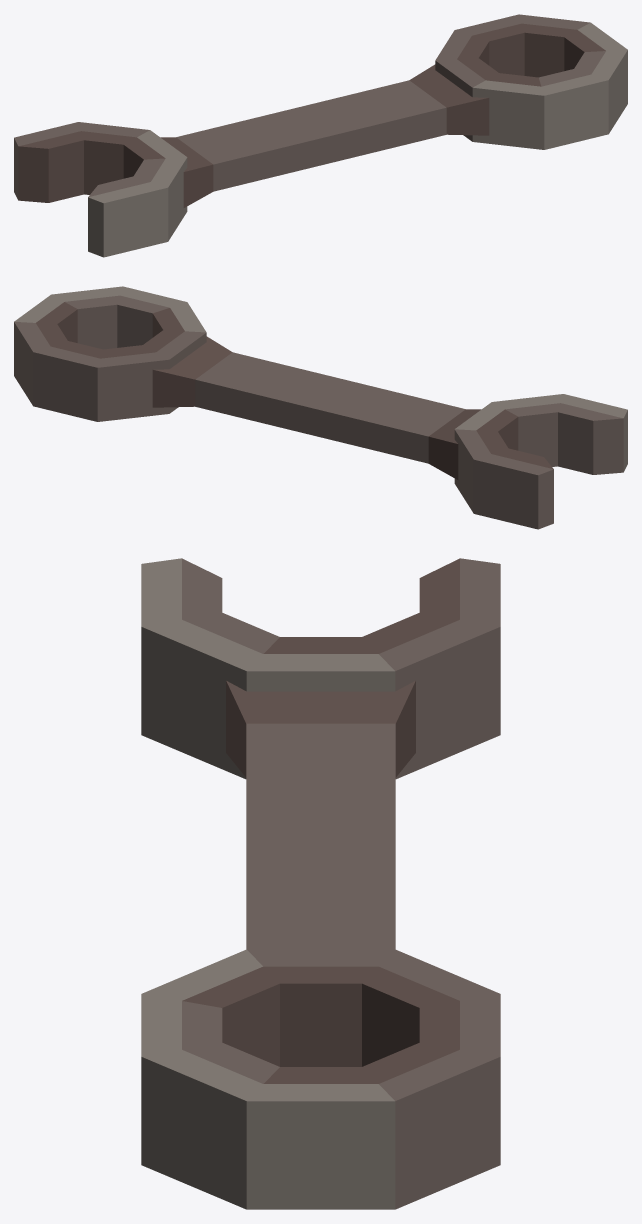
Rendered from wrench.fbx.
The picture shows the model from 3 angles, top to bottom: view 1: azimuth 30°, elevation 25°; view 2: azimuth 150°, elevation 25°; view 3: azimuth 270°, elevation 25°; orthographic projection. The views are drawn at different scales.
Visible parts, largest first — view 1: o, handle, u; view 2: o, handle, u; view 3: o, u, handle.
Part boxes in pixels (x1=…): o: x1=435, y1=14, x2=627, y2=149; handle: x1=160, y1=64, x2=489, y2=207; u: x1=14, y1=122, x2=187, y2=257; o: x1=14, y1=286, x2=206, y2=421; handle: x1=152, y1=336, x2=481, y2=479; u: x1=454, y1=394, x2=627, y2=529; o: x1=141, y1=949, x2=500, y2=1209; u: x1=141, y1=558, x2=500, y2=779; handle: x1=226, y1=680, x2=415, y2=949.
Bounding box in the file's own units: 134 × 12.5 × 37.5.
1 material, 1 textured.
